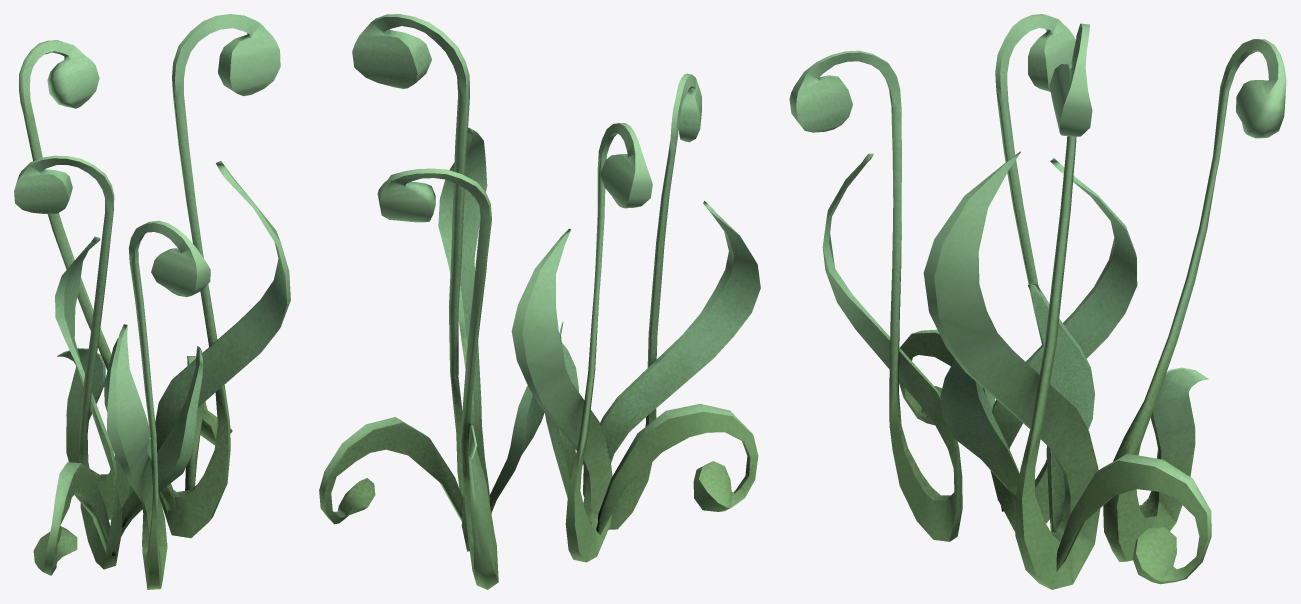
File: Musical_Grass.fbx
The picture shows the model from 3 angles, left to right: view 1: azimuth 30°, elevation 25°; view 2: azimuth 150°, elevation 25°; view 3: azimuth 270°, elevation 25°; orthographic projection. The views are drawn at different scales.
Visible parts, largest first — view 1: GrassSmall2; view 2: GrassSmall2; view 3: GrassSmall2.
Part boxes in pixels (x1,y1,x2,y2): GrassSmall2: (14,14,290,589); GrassSmall2: (319,14,760,589); GrassSmall2: (789,14,1286,589).
Bounding box in the file's own units: 0.3736 × 0.5878 × 0.4538.
